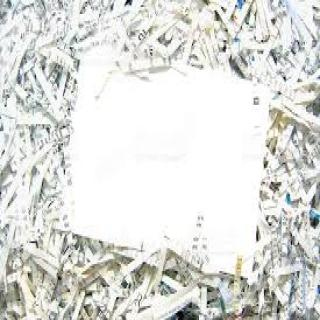PAPER: (0, 0, 319, 318), (53, 51, 269, 280)
